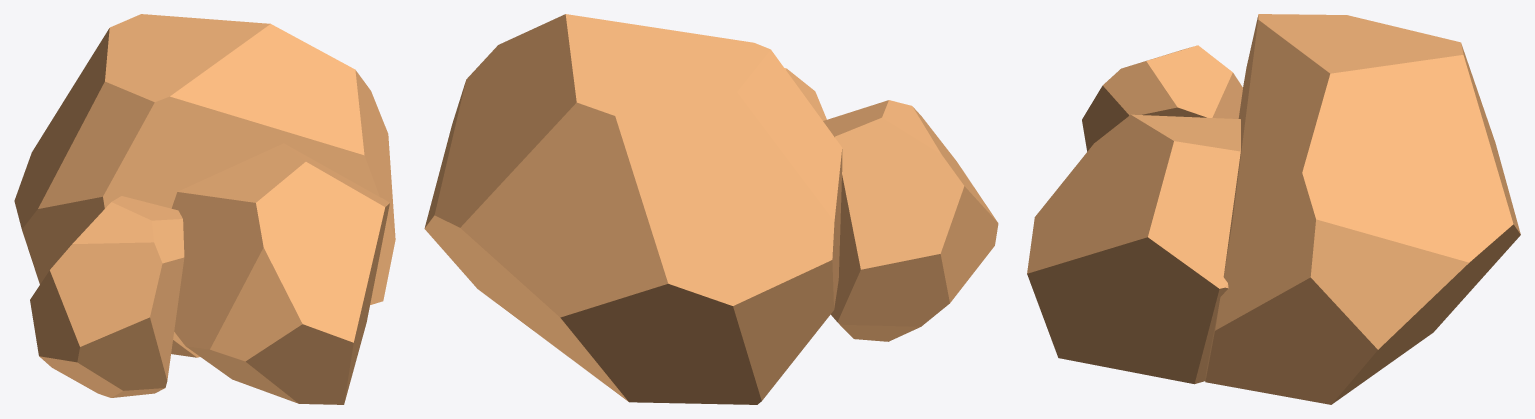
File: Rock1_R.fbx
3 views of the same model, side by side, from view 1: azimuth 30°, elevation 25°; view 2: azimuth 150°, elevation 25°; view 3: azimuth 270°, elevation 25° (orthographic). The views are drawn at different scales.
Parts seen in each view (by area): view 1: Rock1_R; view 2: Rock1_R; view 3: Rock1_R.
Boxes of the visible parts, bbox=[...] form: Rock1_R: bbox=[14, 14, 395, 404]; Rock1_R: bbox=[424, 14, 998, 404]; Rock1_R: bbox=[1027, 14, 1520, 404].
Bounding box in the file's own units: 69.75 × 47.85 × 67.99.
